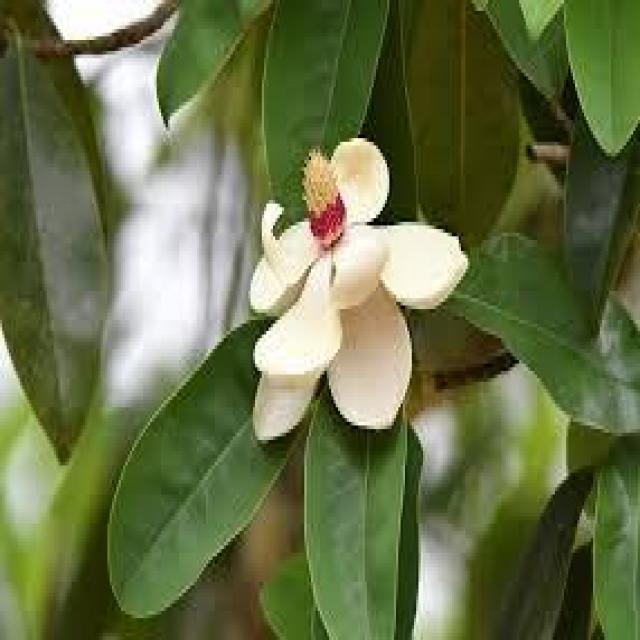organic waste: (241, 126, 462, 449)
